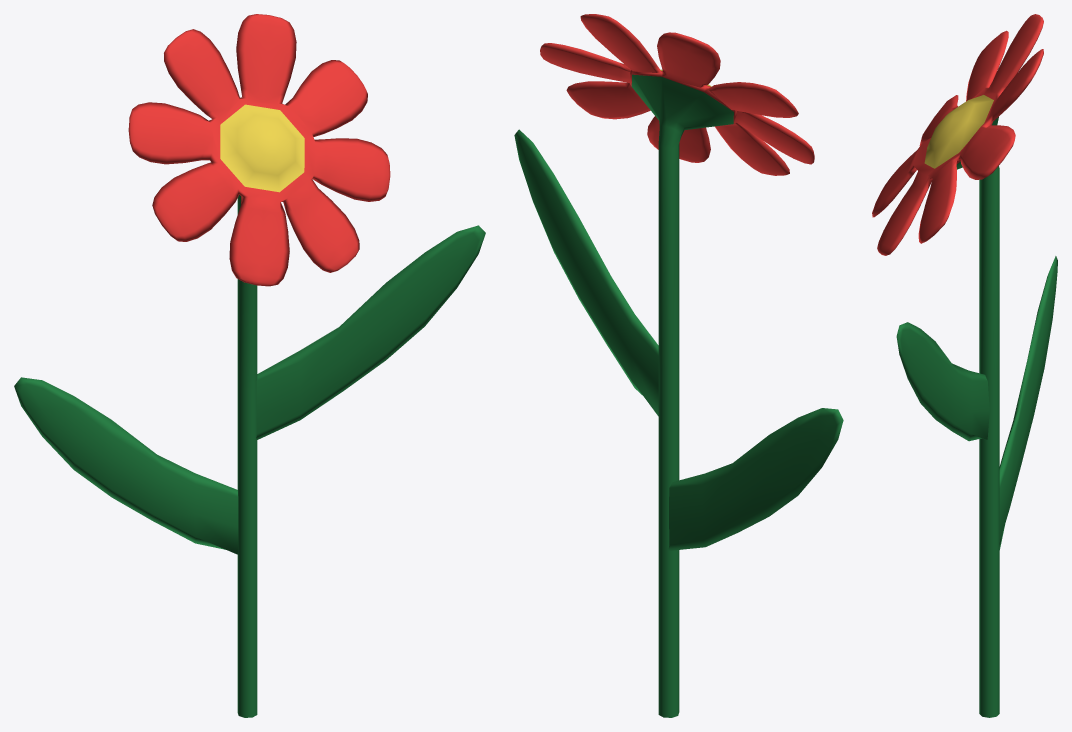
File: flower.glb
3 views of the same model, side by side, from view 1: azimuth 30°, elevation 25°; view 2: azimuth 150°, elevation 25°; view 3: azimuth 270°, elevation 25° (orthographic). The views are drawn at different scales.
Parts seen in each view (by area): view 1: flower; view 2: flower; view 3: flower.
Boxes of the visible parts, left/top/right/bottom form: flower: left=14, top=14, right=485, bottom=717; flower: left=514, top=14, right=843, bottom=717; flower: left=872, top=14, right=1057, bottom=717.
Size of the model in its own units: 0.2233 by 0.3658 by 0.0909.
